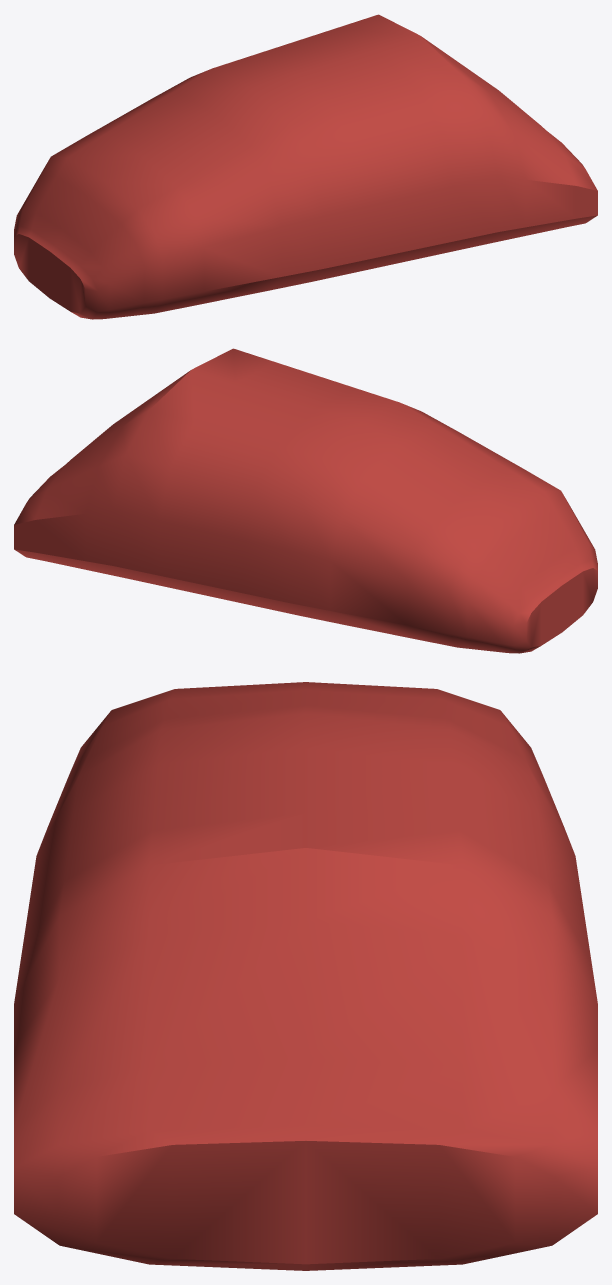
Rendered from hump_lod1.glb.
3 renders of one model, top to bottom at view 1: azimuth 30°, elevation 25°; view 2: azimuth 150°, elevation 25°; view 3: azimuth 270°, elevation 25°, orthographic. The views are drawn at different scales.
Parts seen in each view (by area): view 1: hump_lod1; view 2: hump_lod1; view 3: hump_lod1.
Boxes of the visible parts, x1=… form: hump_lod1: x1=14, y1=14, x2=597, y2=319; hump_lod1: x1=14, y1=348, x2=597, y2=653; hump_lod1: x1=14, y1=682, x2=597, y2=1270.
Bounding box in the file's own units: 0.45 × 0.16 × 0.255.
